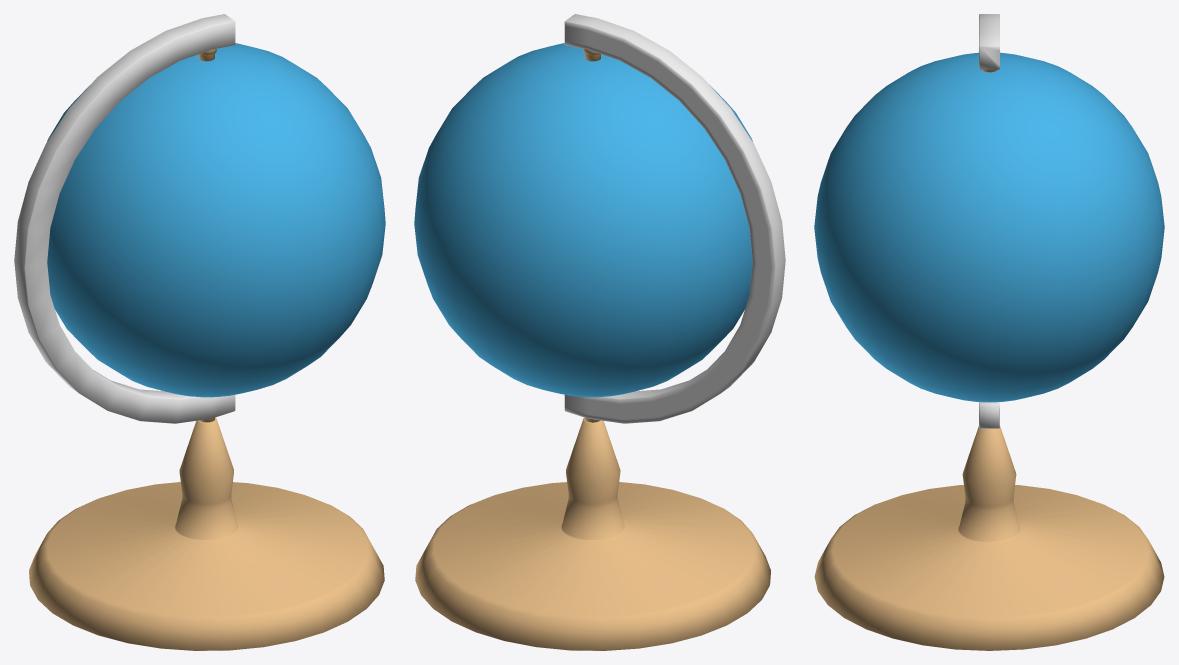
Rendered from Game_project1_assets_Globe.fbx.
3 renders of one model, left to right at view 1: azimuth 30°, elevation 25°; view 2: azimuth 150°, elevation 25°; view 3: azimuth 270°, elevation 25°, orthographic.
Visible parts, largest first — view 1: Cylinder.005; view 2: Cylinder.005; view 3: Cylinder.005.
Part boxes in pixels (x1=…): Cylinder.005: x1=14, y1=14, x2=385, y2=650; Cylinder.005: x1=414, y1=14, x2=785, y2=650; Cylinder.005: x1=814, y1=14, x2=1164, y2=650.
Size of the model in its own units: 23.86 by 36.83 by 21.52.
